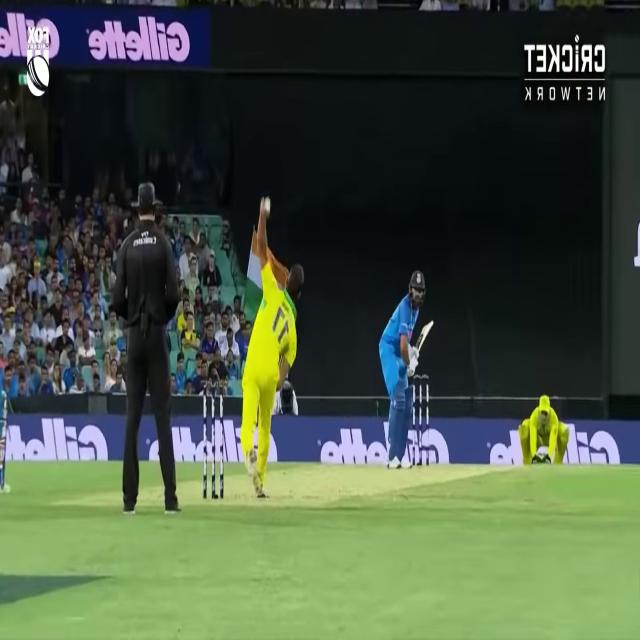ball: (265, 198, 271, 212)
stump: (412, 374, 428, 467)
